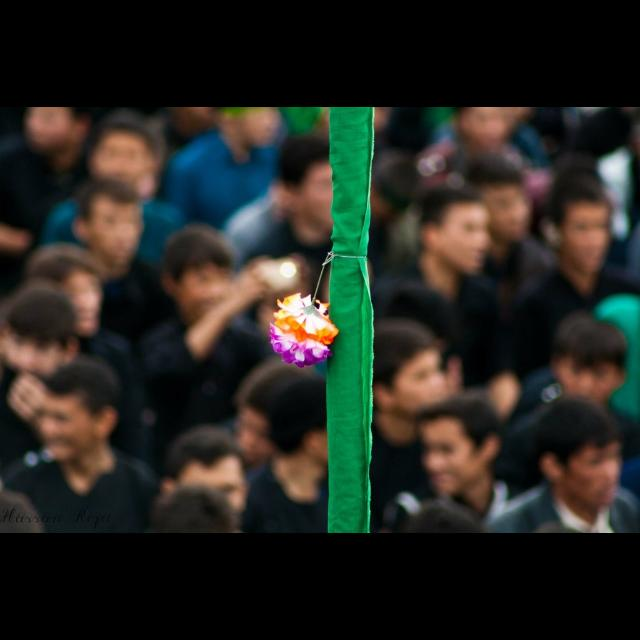Flower: (262, 286, 334, 372)
